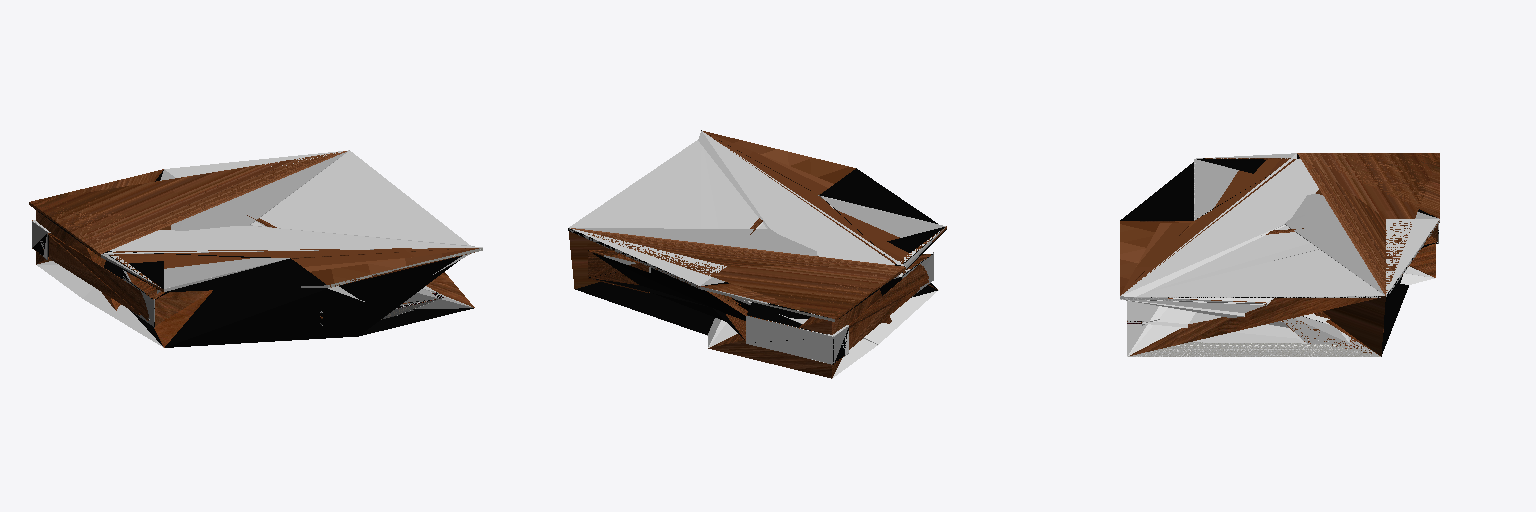
3 views of the same model, side by side, from view 1: azimuth 30°, elevation 25°; view 2: azimuth 150°, elevation 25°; view 3: azimuth 270°, elevation 25° (orthographic).
Parts seen in each view (by area): view 1: wood_primary, frame_window, stove, walls, dinning, bathroom_props001; view 2: wood_primary, frame_window, stove, walls, dinning, bathroom_props001; view 3: frame_window, wood_primary, walls, dinning, bathroom_props001, stove.
Boxes of the visible parts, box(x1,y1,x2,y2) form: wood_primary: box(30, 151, 478, 327); frame_window: box(37, 150, 482, 347); stove: box(33, 170, 473, 347); walls: box(101, 150, 482, 318); dinning: box(29, 202, 474, 347); bathroom_props001: box(32, 200, 472, 308); wood_primary: box(571, 131, 933, 364); frame_window: box(569, 131, 938, 378); stove: box(568, 168, 946, 364); walls: box(572, 195, 945, 321); dinning: box(569, 130, 946, 378); bathroom_props001: box(569, 146, 939, 364); frame_window: box(1120, 154, 1439, 356); wood_primary: box(1120, 153, 1439, 353); walls: box(1120, 153, 1439, 356); dinning: box(1127, 158, 1437, 355); bathroom_props001: box(1120, 158, 1438, 356); stove: box(1120, 154, 1438, 356).
Bounding box in the file's own units: 59.08 × 12.03 × 55.81.
Materials: 28 (10 with a texture image).